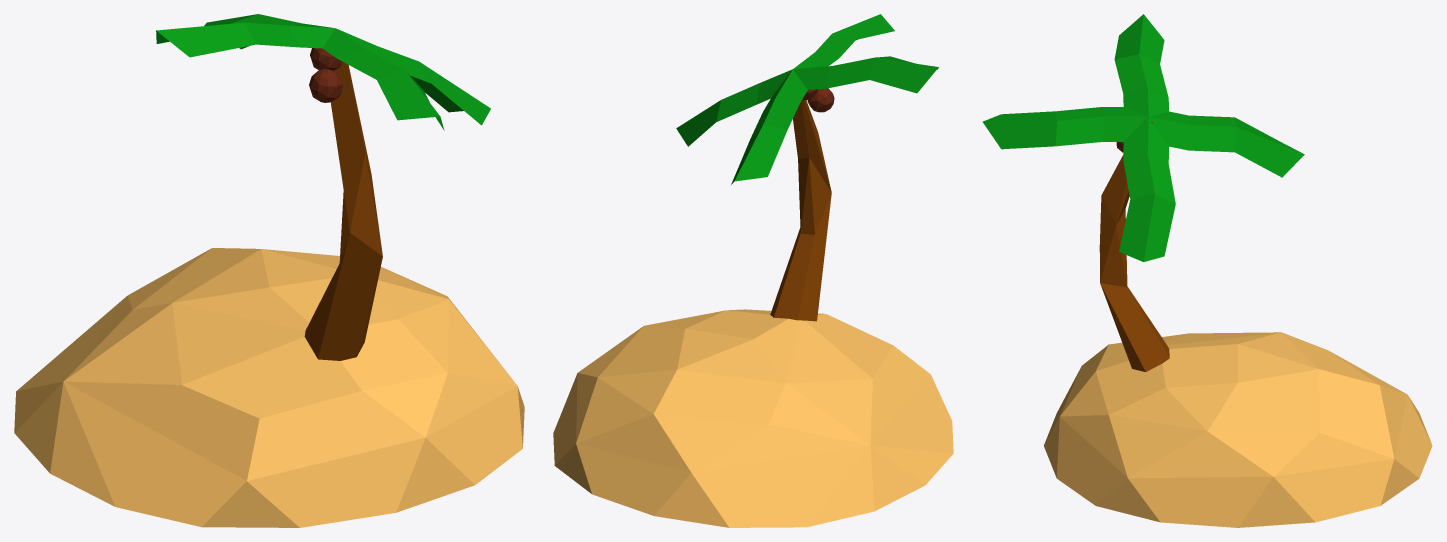
File: TatislandNoChest.fbx
3 renders of one model, left to right at view 1: azimuth 30°, elevation 25°; view 2: azimuth 150°, elevation 25°; view 3: azimuth 270°, elevation 25°, orthographic. The views are drawn at different scales.
Parts seen in each view (by area): view 1: island; view 2: island; view 3: island.
Part boxes in pixels (x1=…): island: x1=14, y1=14, x2=524, y2=527; island: x1=553, y1=14, x2=953, y2=527; island: x1=982, y1=14, x2=1432, y2=527.
Bounding box in the file's own units: 312 × 324 × 361.
